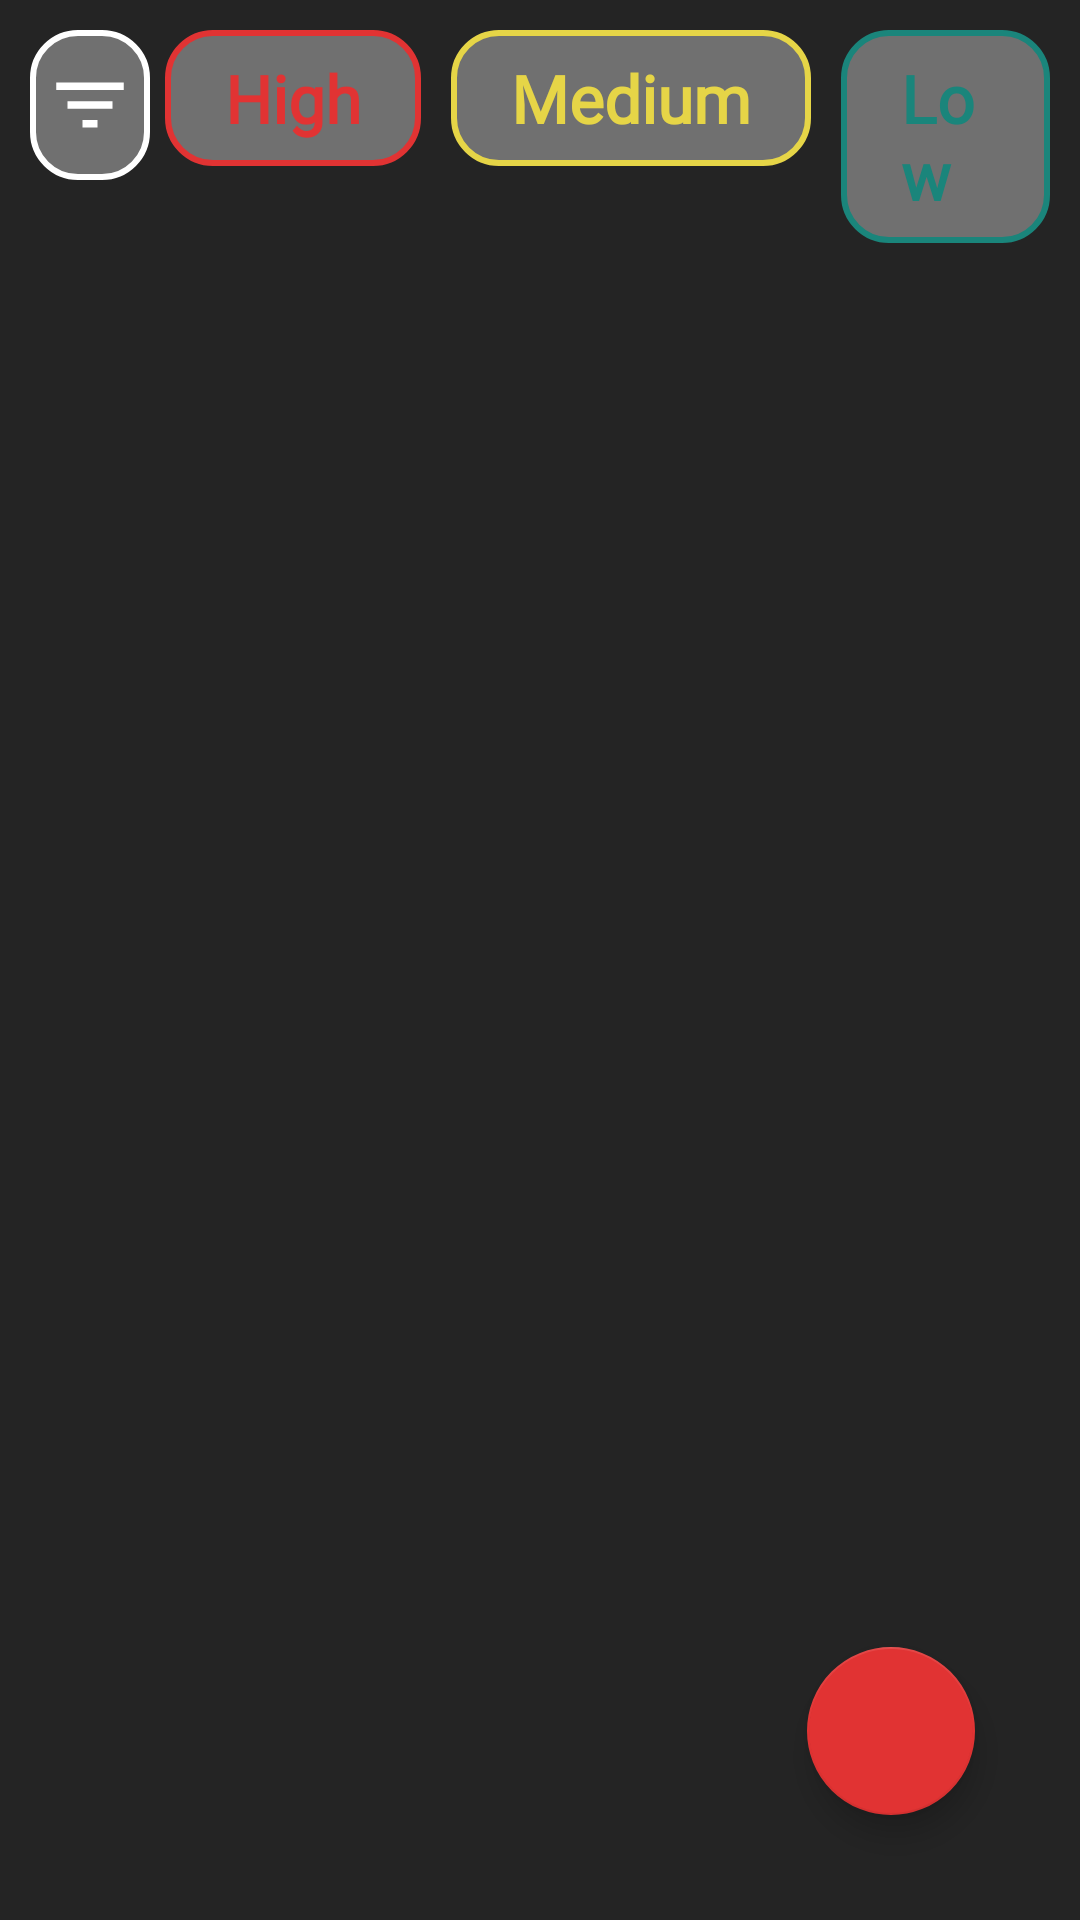

Named icons in this screenshot (1080px×1920px) and their bounding boxes, (x1=x1, y1=y1, x2=x2, y2=y2):
filter list: (x1=30, y1=30, x2=150, y2=180)
